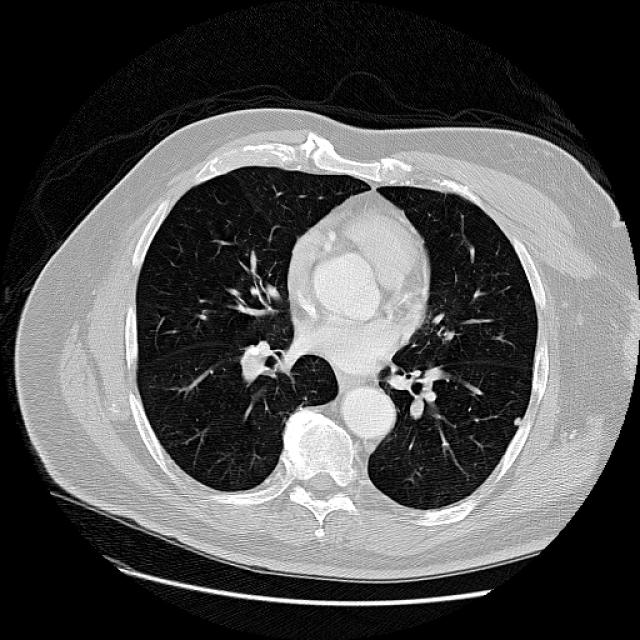nodule: (506, 410, 526, 430)
